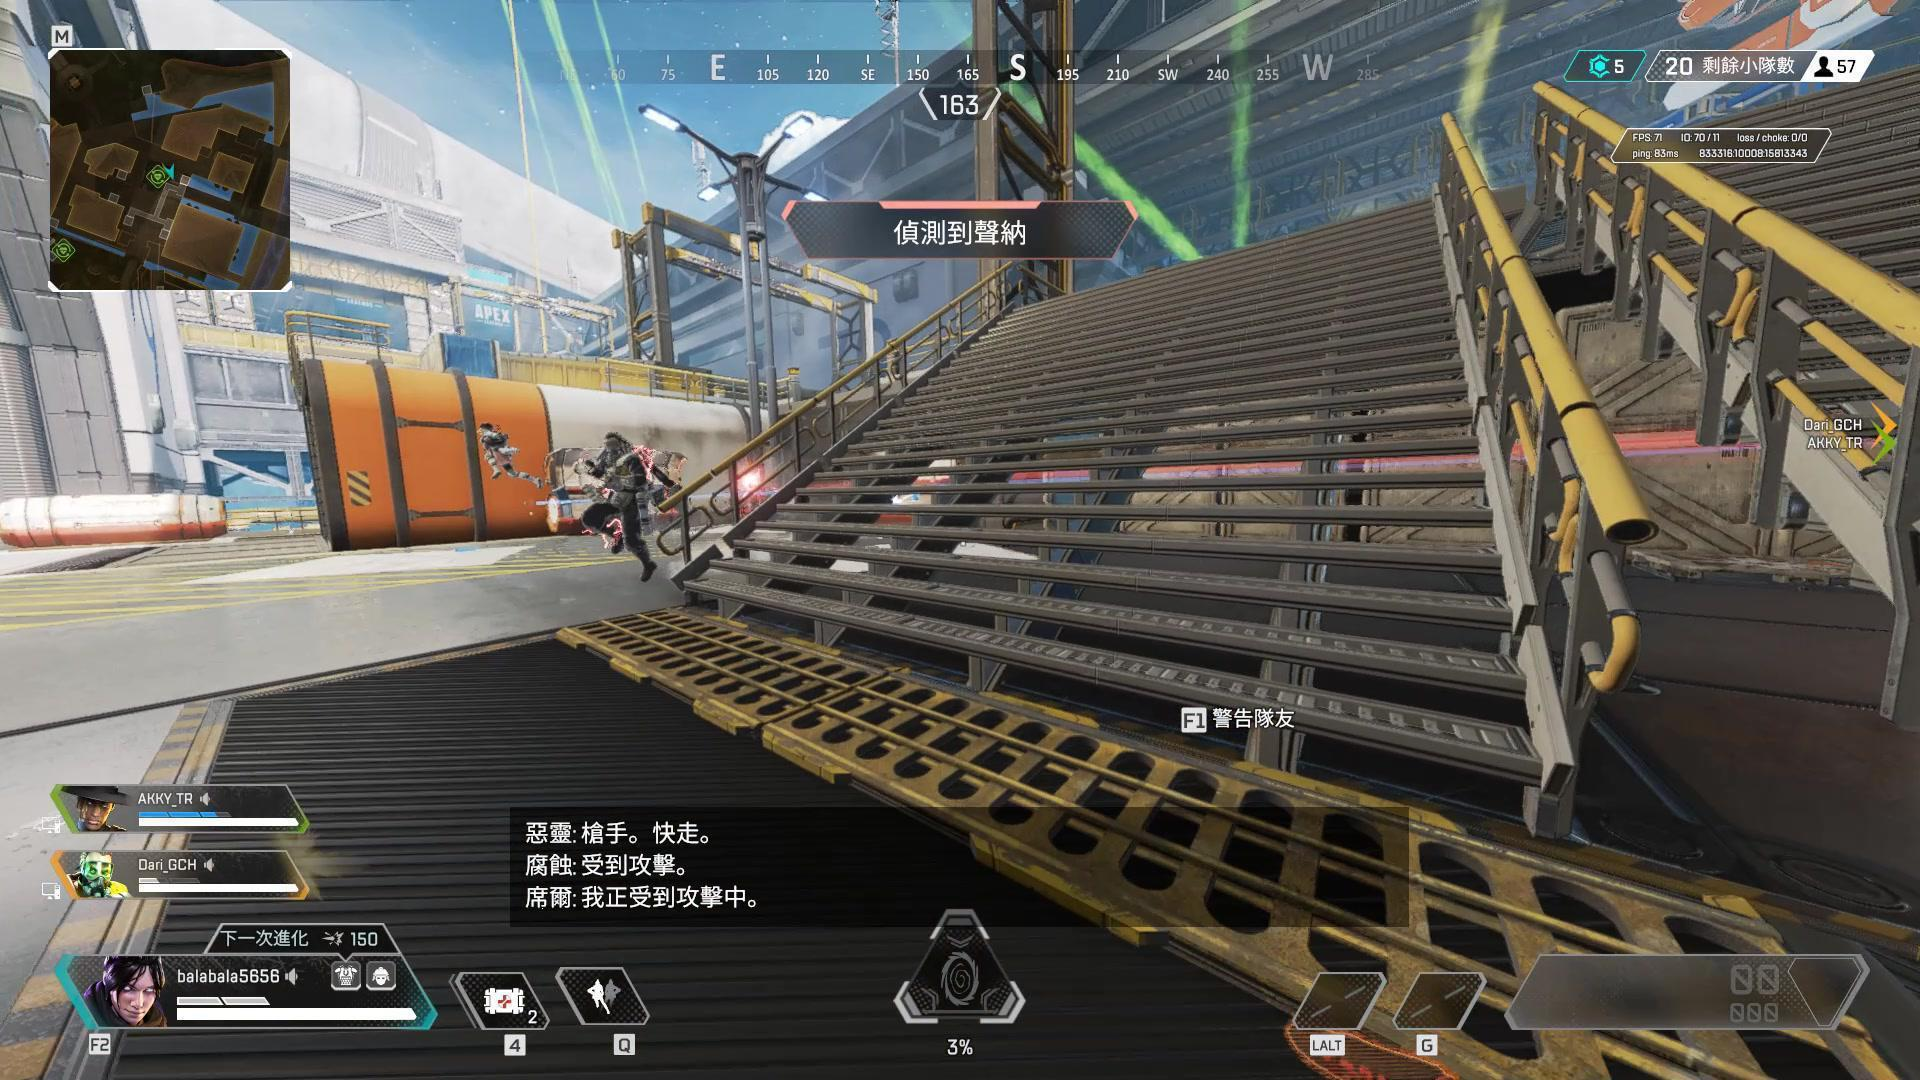avatar: (578, 429, 659, 583), (477, 420, 520, 482)
